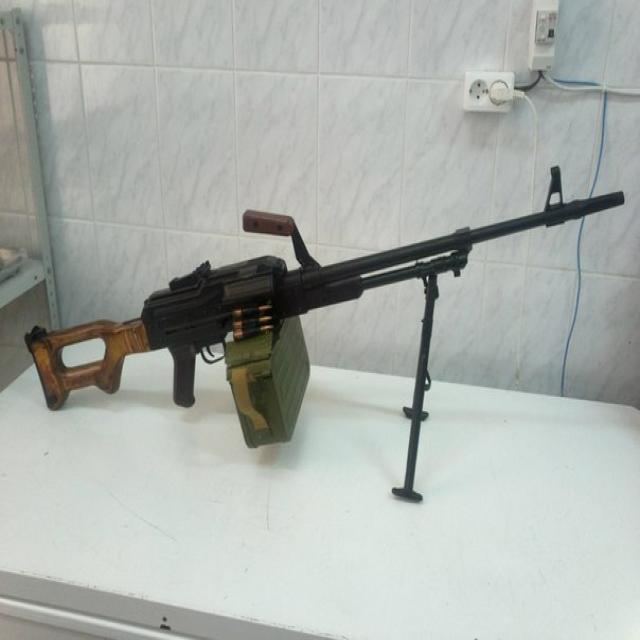firearm: (24, 165, 627, 410)
